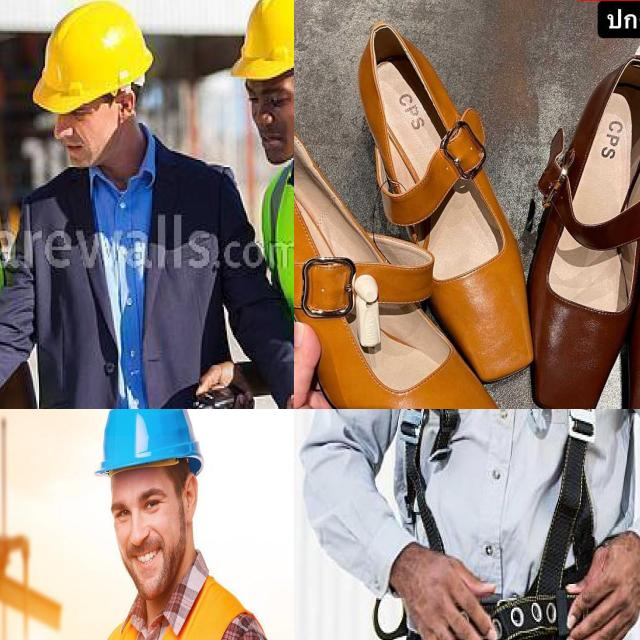Harness: (525, 409, 596, 600), (399, 409, 461, 554)
No_Ear-Protection: (114, 81, 135, 129)
No_Glasses: (182, 468, 202, 533)
Sandals: (294, 0, 543, 409), (497, 21, 640, 409)
face_nomask: (97, 472, 196, 606), (46, 88, 114, 167), (248, 66, 294, 163)
head_helmet: (19, 0, 159, 112), (91, 409, 200, 481), (228, 0, 294, 80)
person: (30, 2, 219, 409), (64, 409, 286, 640), (238, 0, 294, 409)
